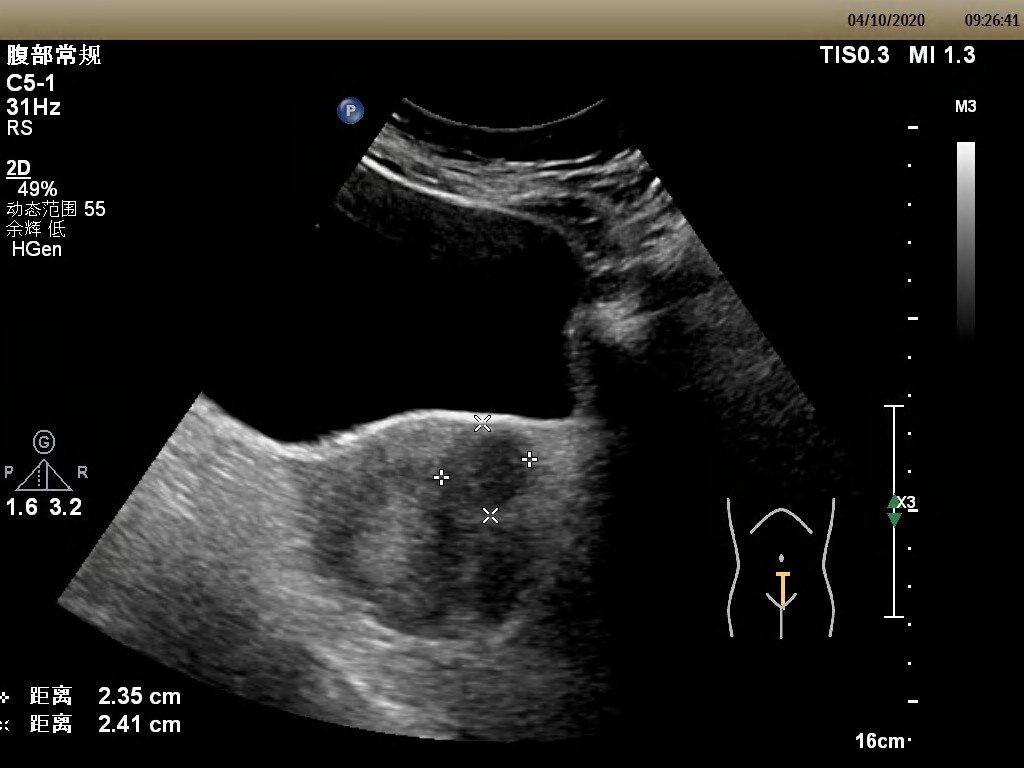肌瘤: (450, 426, 532, 509)
